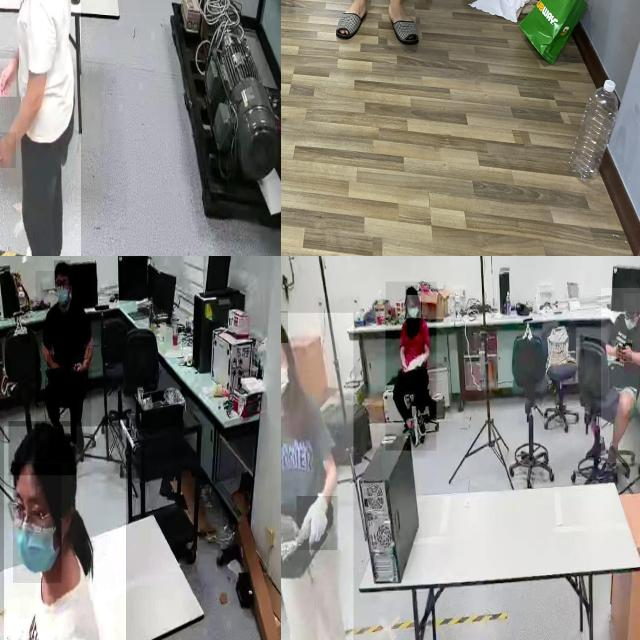Sandals: (388, 0, 419, 45), (336, 0, 366, 39)
face_mask: (13, 463, 61, 583), (53, 273, 71, 303), (281, 353, 292, 399), (407, 295, 421, 318)
glasses: (4, 494, 50, 536)
hand_glove: (296, 496, 338, 550)
hand_noglove: (0, 58, 17, 97), (0, 132, 16, 168), (71, 354, 87, 374), (616, 343, 632, 362), (47, 354, 60, 372), (612, 340, 622, 360), (402, 362, 408, 372)
head_nohelmet: (9, 421, 77, 476), (623, 293, 640, 312), (54, 260, 71, 274), (405, 285, 417, 295)
person: (3, 426, 126, 640), (281, 312, 353, 640), (0, 0, 81, 256), (36, 271, 92, 462), (385, 282, 437, 452), (600, 288, 640, 464)
shoes: (25, 243, 65, 256), (409, 416, 419, 448), (414, 411, 426, 437)
